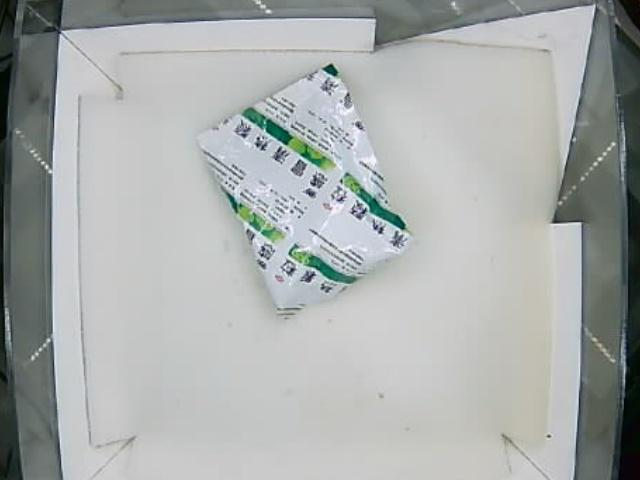Medicine: (195, 62, 412, 313)
